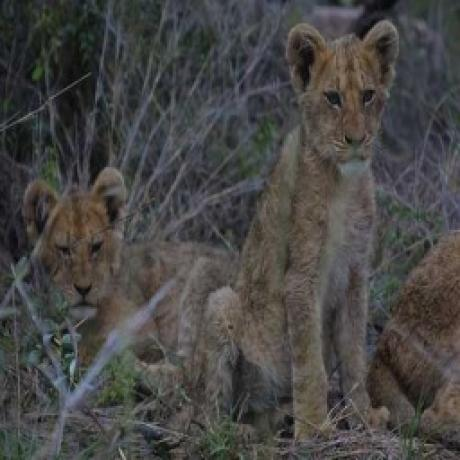Lion: (188, 17, 403, 441), (19, 163, 239, 375)
